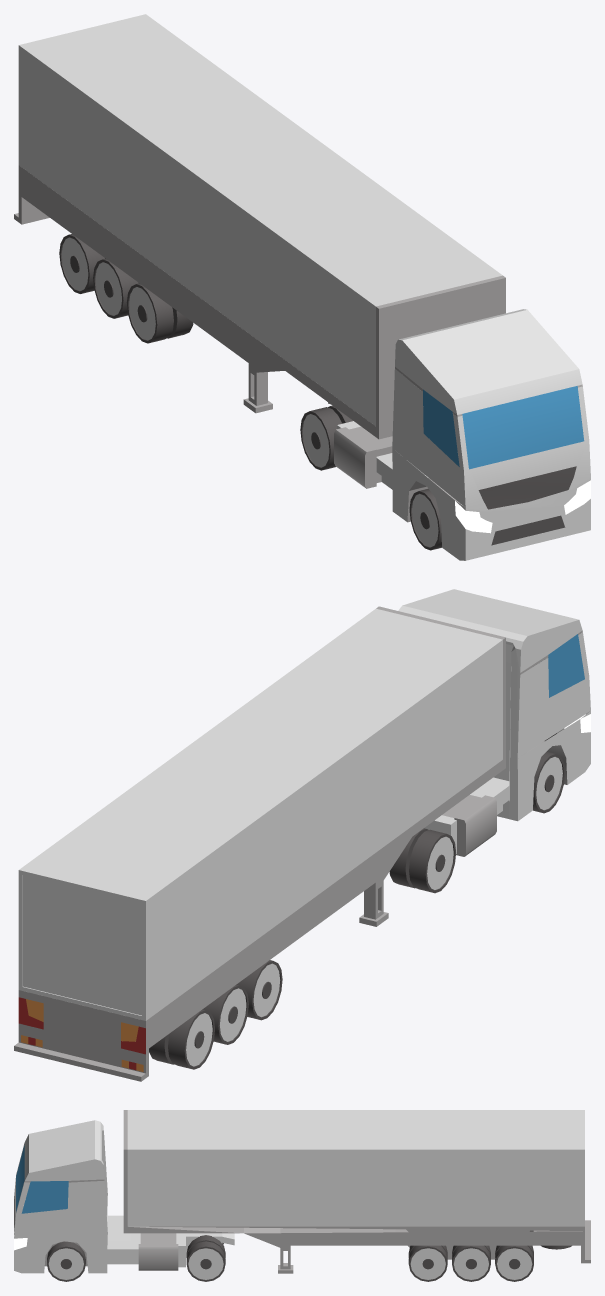
Rendered from lp_bigtruck.glb.
The picture shows the model from 3 angles, top to bottom: view 1: azimuth 30°, elevation 25°; view 2: azimuth 150°, elevation 25°; view 3: azimuth 270°, elevation 25°; orthographic projection. The views are drawn at different scales.
Parts seen in each view (by area): view 1: Object_9; view 2: Object_9; view 3: Object_9.
Part boxes in pixels (x1,y1,x2,y2): Object_9: (14, 14, 590, 560); Object_9: (14, 589, 590, 1081); Object_9: (14, 1110, 590, 1281).
Size of the model in its own units: 2.14 by 3.18 by 12.56.
